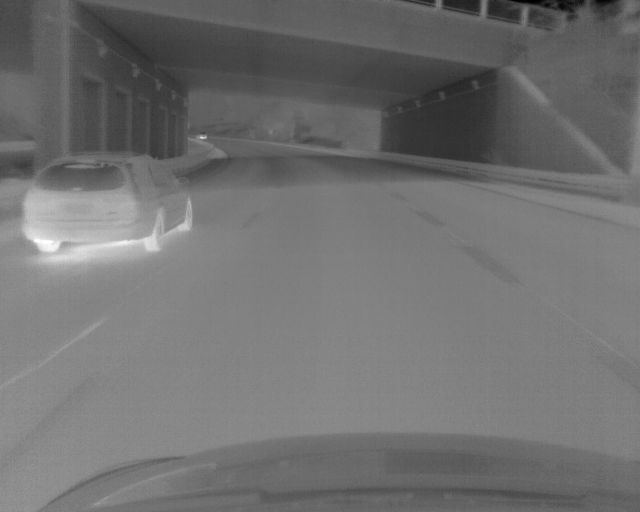car: (19, 151, 195, 256), (197, 131, 208, 139)
